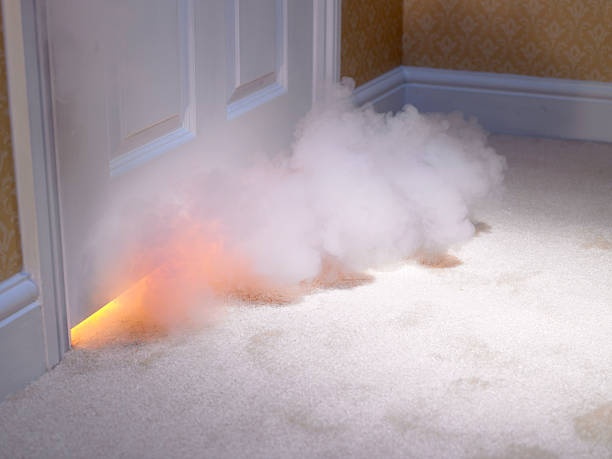smoke: (188, 105, 502, 290)
